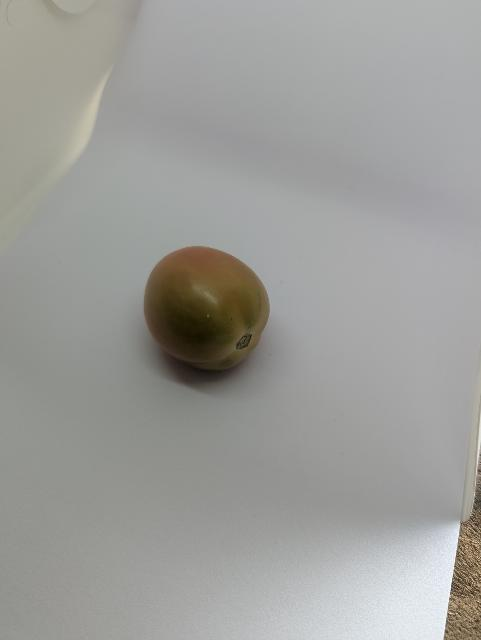breaker: (132, 239, 286, 381)
